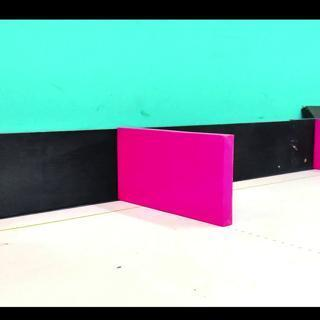xparking: (118, 133, 227, 216)
